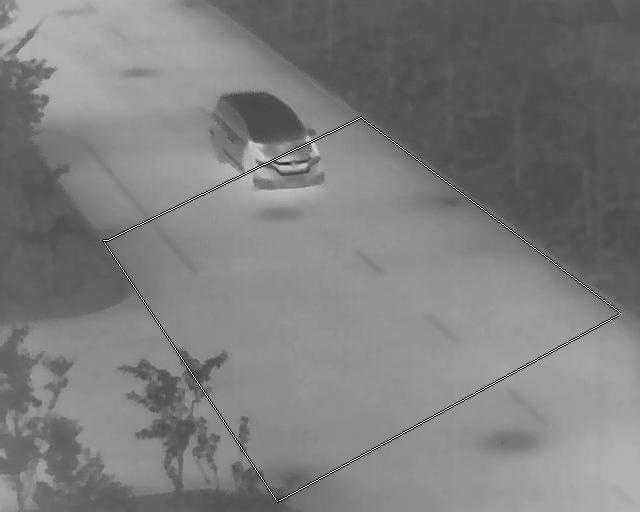vehicle: (207, 91, 325, 188)
